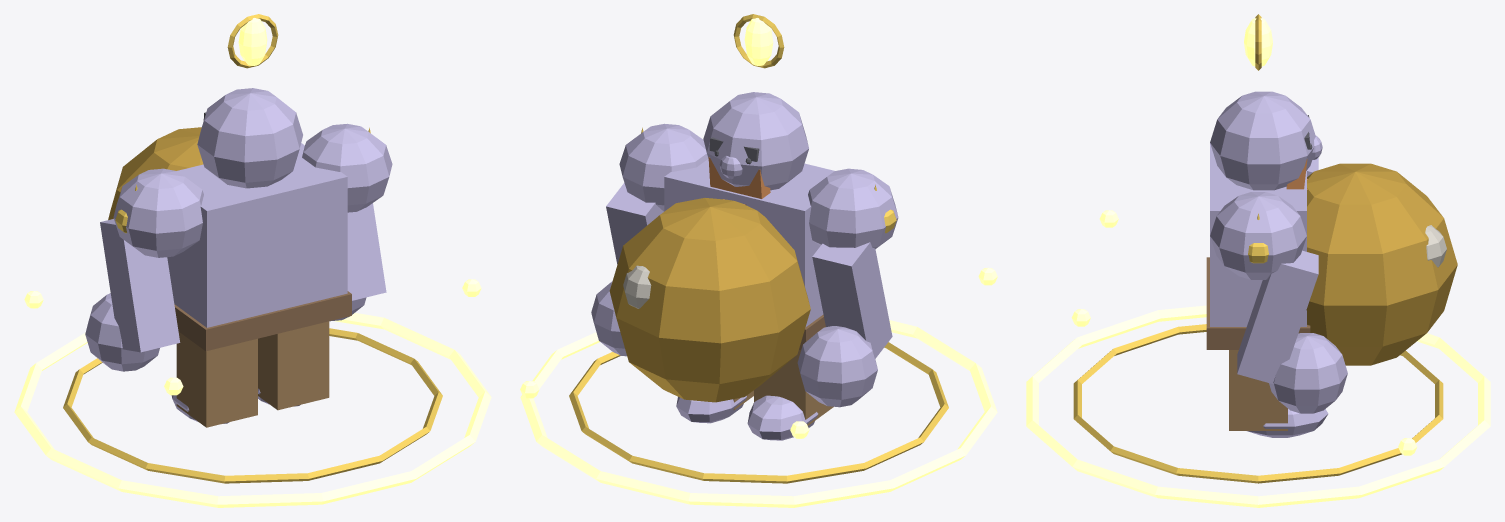
The model's file is hero_bowler.glb.
The picture shows the model from 3 angles, left to right: view 1: azimuth 30°, elevation 25°; view 2: azimuth 150°, elevation 25°; view 3: azimuth 270°, elevation 25°; orthographic projection.
Parts seen in each view (by area): view 1: hero_bowler; view 2: hero_bowler; view 3: hero_bowler.
Part boxes in pixels (box(x1,y1,x2,y2)): hero_bowler: box(14, 14, 491, 507); hero_bowler: box(520, 14, 997, 507); hero_bowler: box(1026, 14, 1490, 507).
Size of the model in its own units: 4.95 by 4.59 by 4.83.
